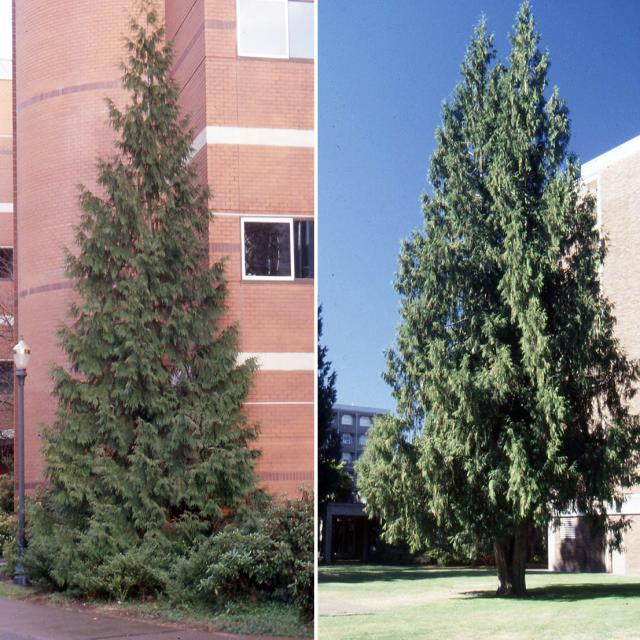Thuja plicata: (360, 14, 639, 596), (23, 2, 270, 600)
